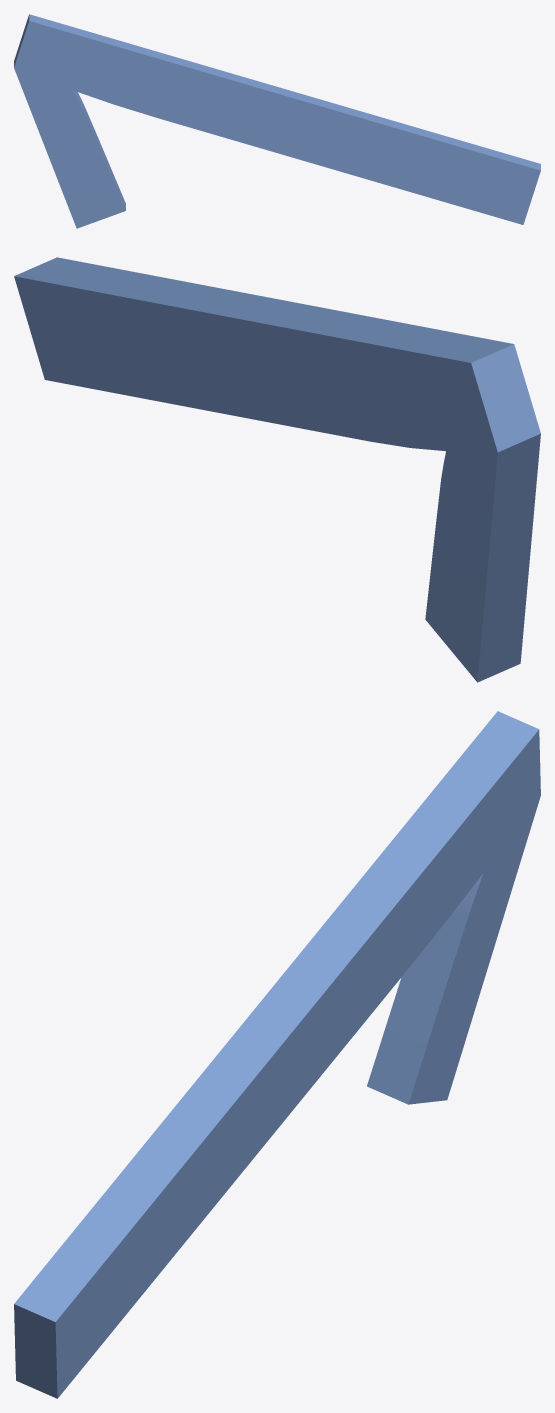
File: New_Number_1.gltf
3 views of the same model, one above another, from view 1: azimuth 30°, elevation 25°; view 2: azimuth 150°, elevation 25°; view 3: azimuth 270°, elevation 25° (orthographic). The views are drawn at different scales.
Parts seen in each view (by area): view 1: Part 55; view 2: Part 55; view 3: Part 55.
Part boxes in pixels (x1,y1,x2,y2): Part 55: (14,14,540,228); Part 55: (14,257,540,682); Part 55: (14,711,540,1398).
Size of the model in its own units: 0.00439 by 0.00207 by 0.00274.
